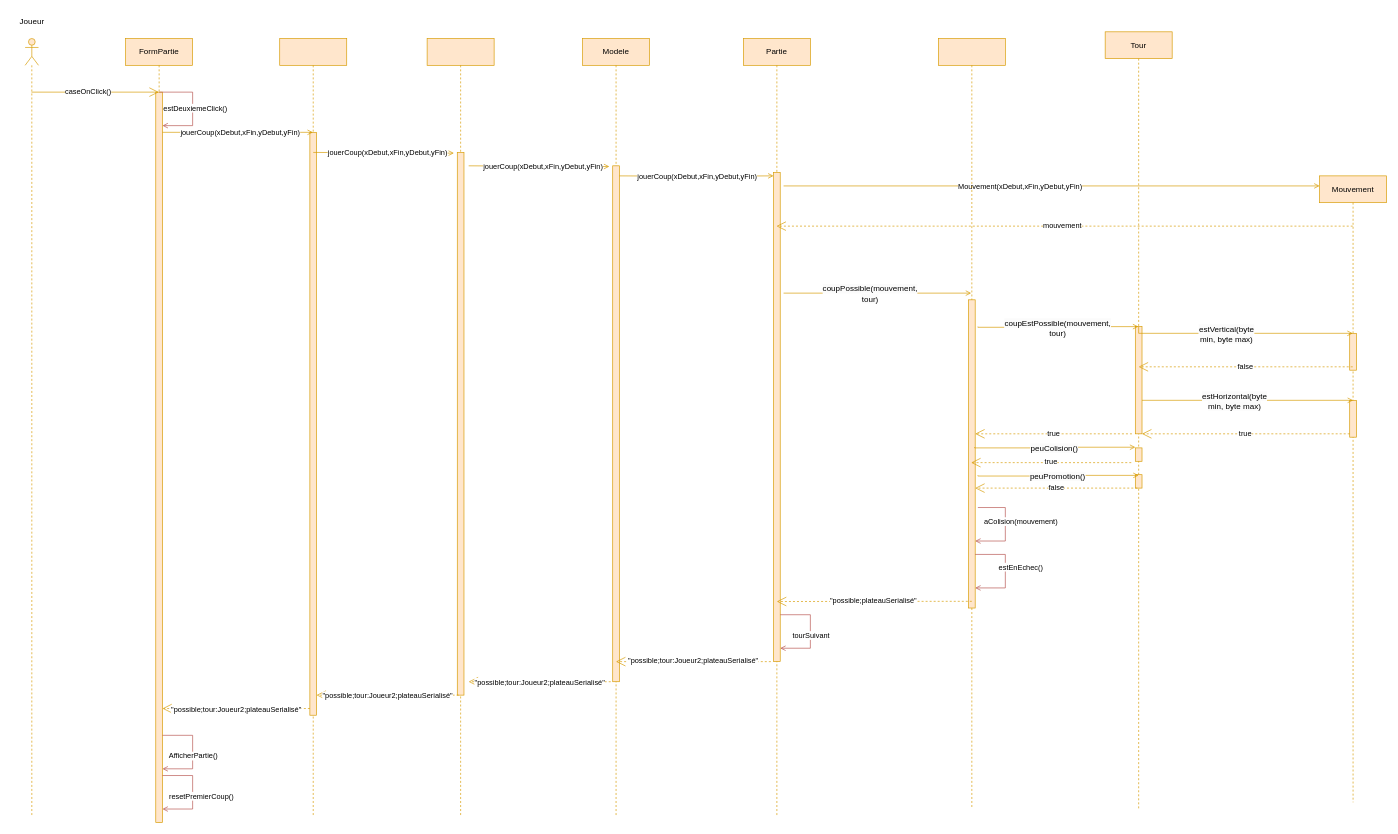
Image size: 1398x834. Some labels were removed from this diagram. The shapes that lost their labels are listed below. From the top down, each one's box as (x1, y1, x2, y2) in pixels, then its label:
(279, 38, 347, 816): Jeu Echec
(426, 38, 494, 816): Vue
(938, 38, 1005, 809): Plateau
